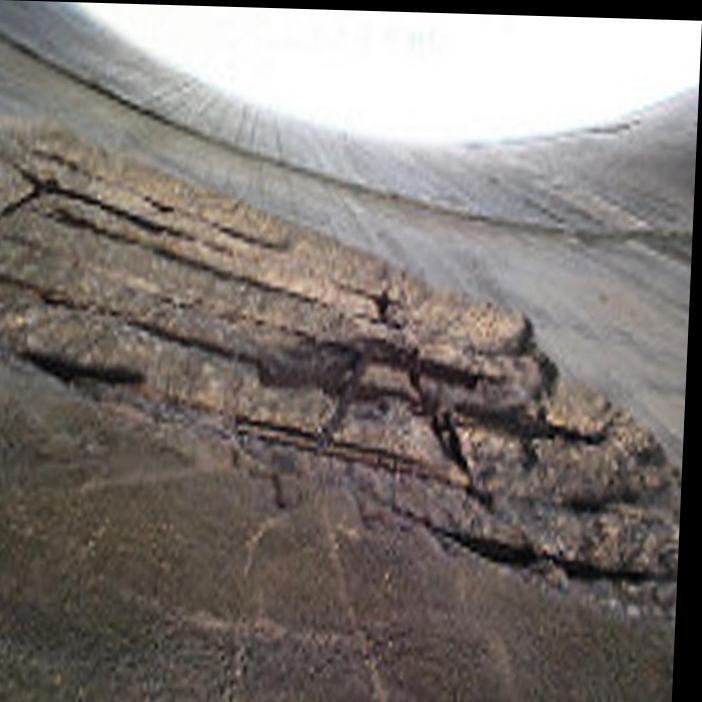damage: (0, 105, 687, 631)
